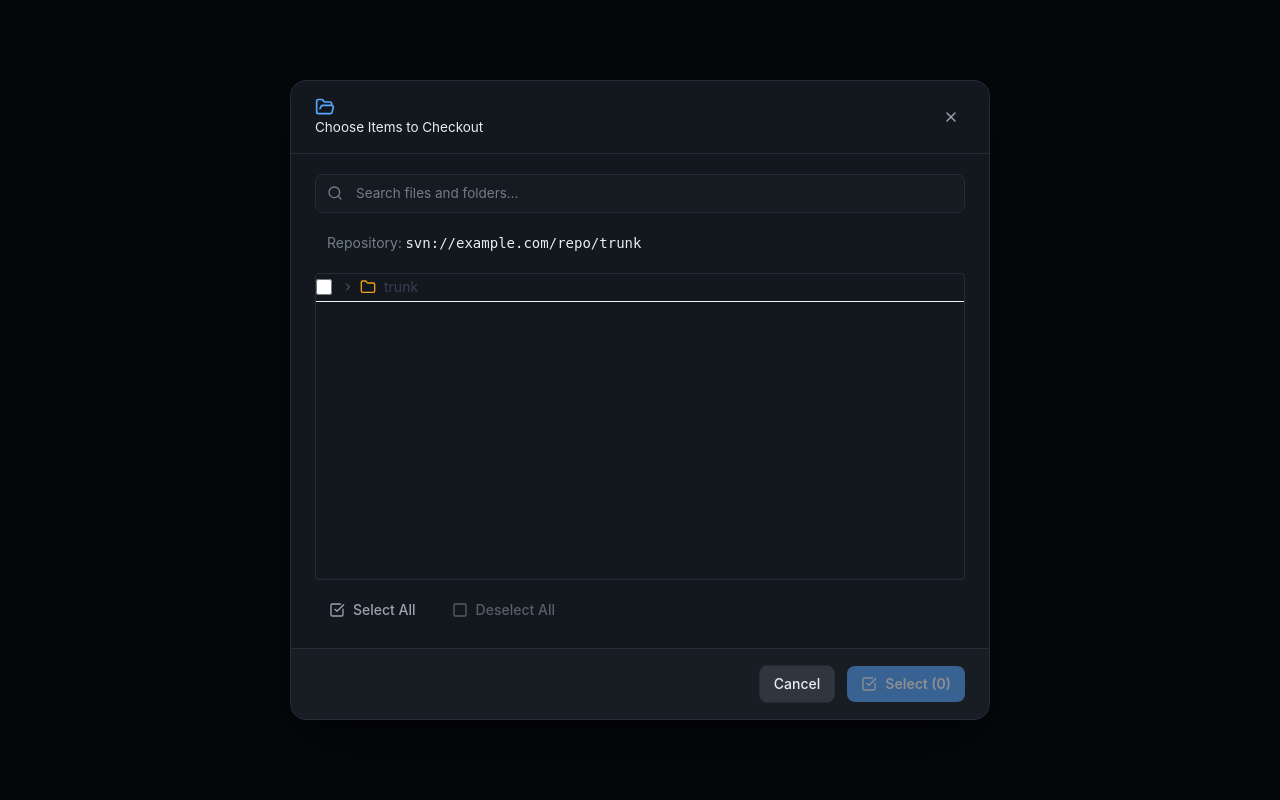
Test: ChooseItemsDialog › search › filters tree nodes based on search query
Type "README" into the field with placeholder "Search files and folders…".
click(640, 193); type("README")  # box [315,174,965,213]
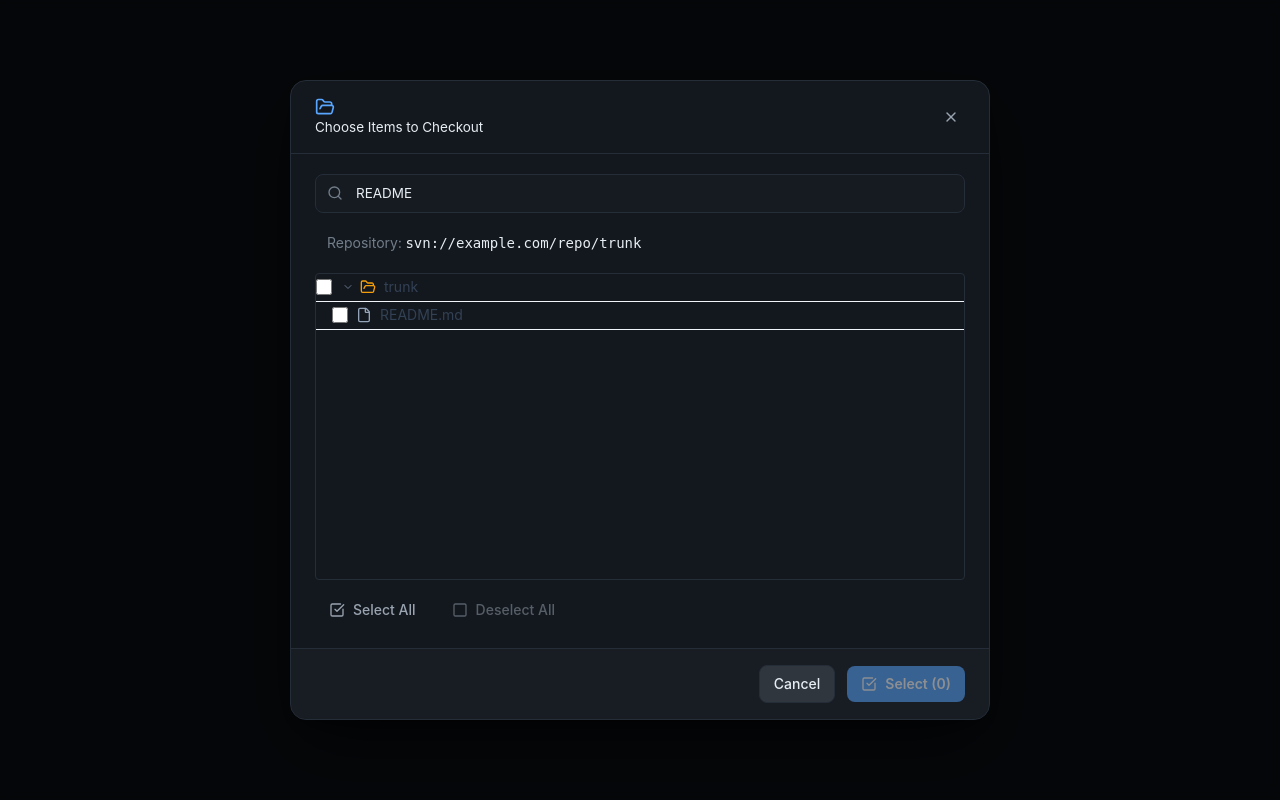
Expected: the text "README.md" is shown, [380,306,463,323]
